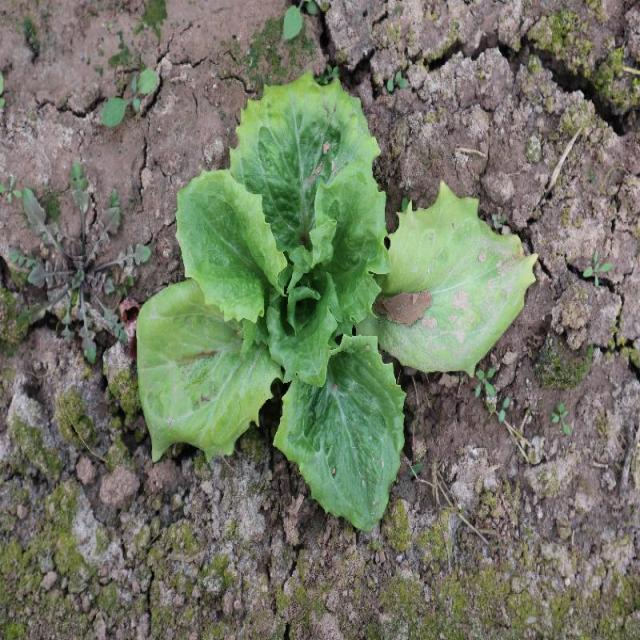crop: (135, 69, 539, 532)
